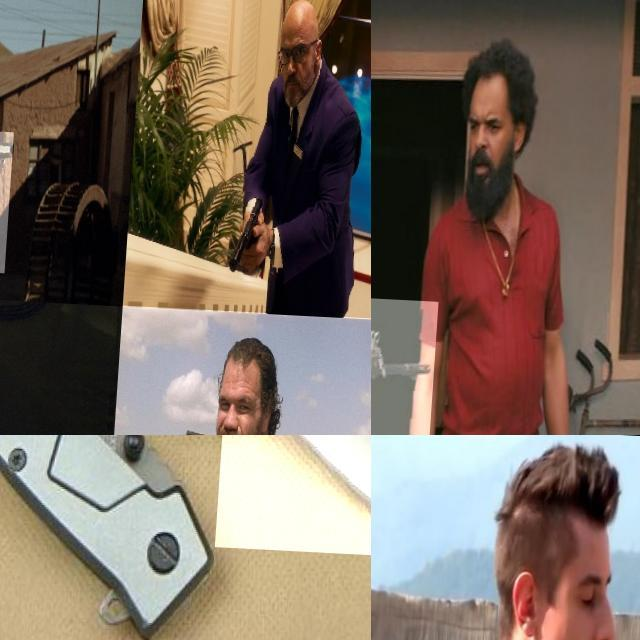-: (221, 435, 371, 572)
gun-knife-thesis - v11 Yolov5 augmented: (371, 284, 537, 435), (0, 127, 29, 271), (230, 187, 270, 276)
